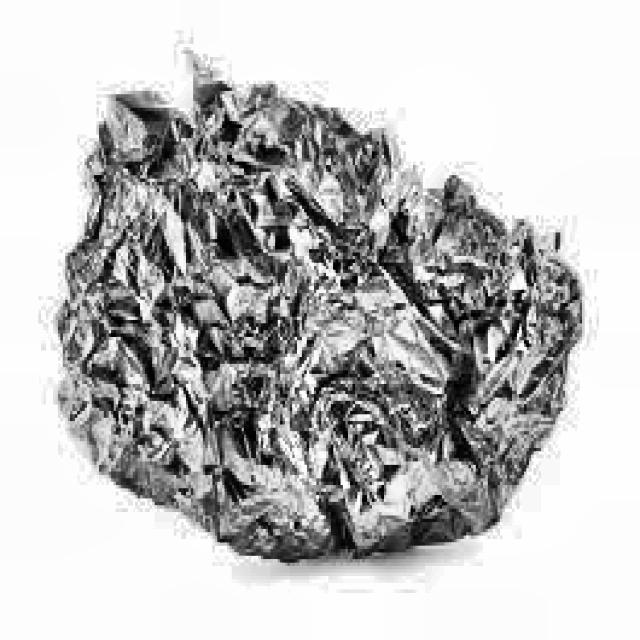Foil: (51, 31, 592, 591)
